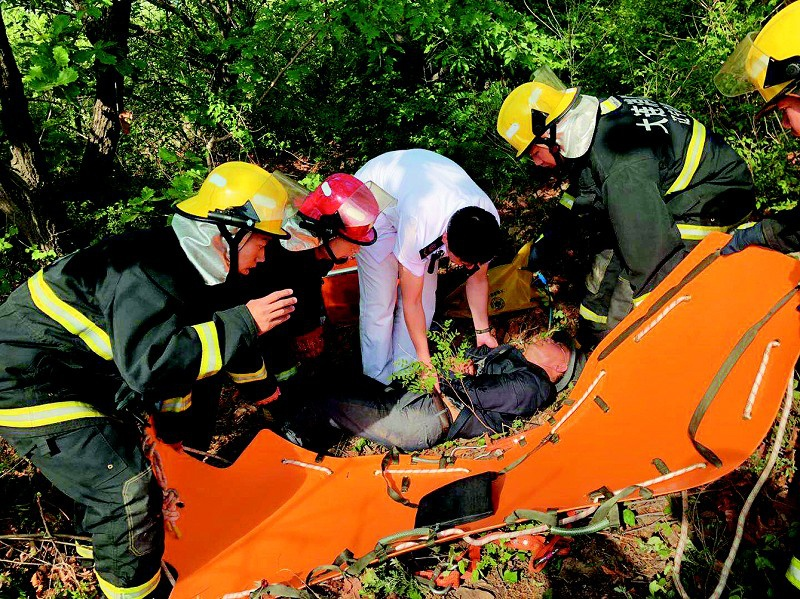falling: (293, 311, 595, 458)
